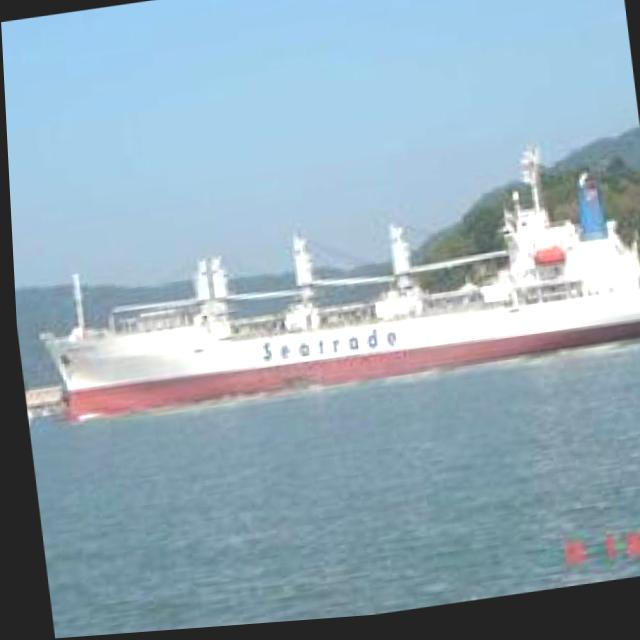ship2: (34, 149, 640, 423)
